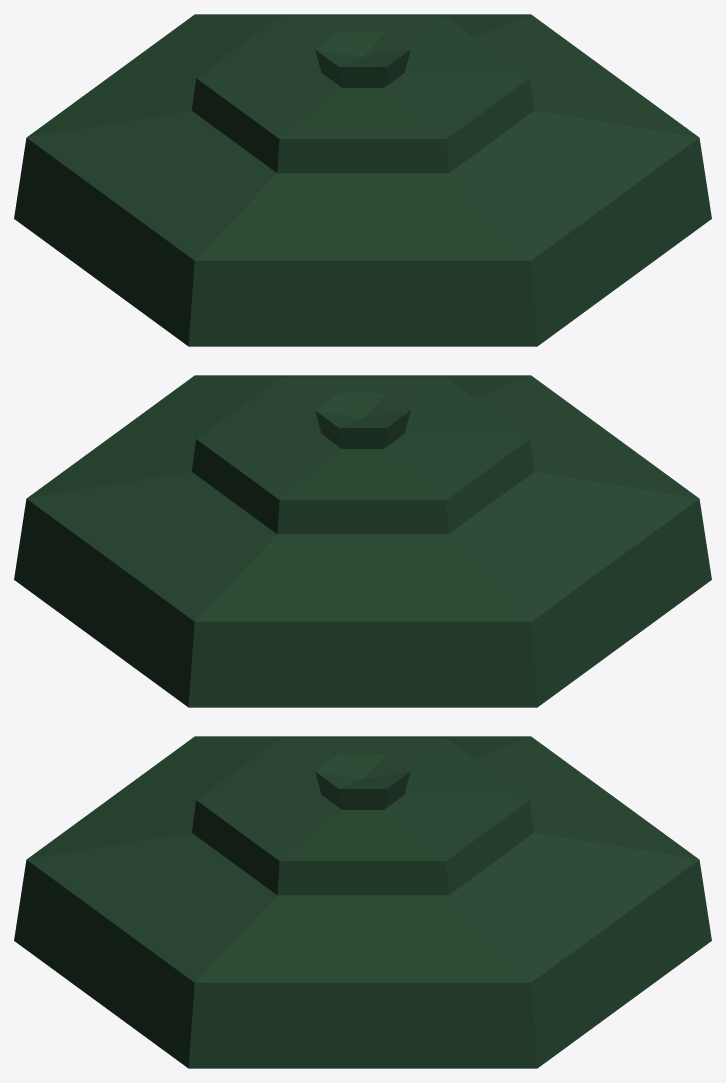
File: weapons_tellermine42.fbx
3 views of the same model, one above another, from view 1: azimuth 30°, elevation 25°; view 2: azimuth 150°, elevation 25°; view 3: azimuth 270°, elevation 25° (orthographic).
Parts seen in each view (by area): view 1: weapons_tellermine42; view 2: weapons_tellermine42; view 3: weapons_tellermine42.
Boxes of the visible parts, left/top/right/bottom form: weapons_tellermine42: left=14, top=14, right=711, bottom=346; weapons_tellermine42: left=14, top=375, right=711, bottom=707; weapons_tellermine42: left=14, top=736, right=711, bottom=1068.
Size of the model in its own units: 173 by 56.36 by 200.
